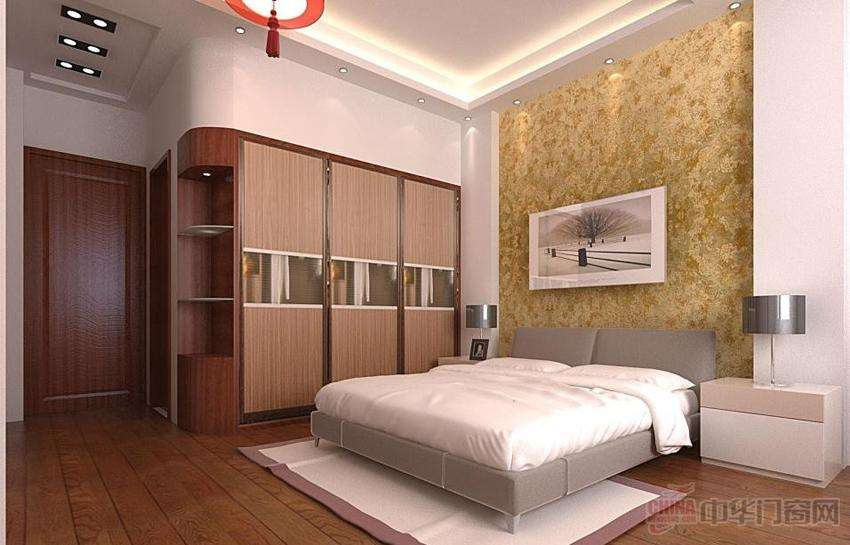床: (319, 354, 697, 512)
灯: (738, 296, 809, 385), (226, 2, 319, 59), (461, 305, 498, 361), (62, 3, 118, 34), (56, 33, 109, 59), (51, 56, 104, 82), (597, 57, 617, 70), (332, 64, 348, 76), (411, 95, 427, 107), (725, 4, 742, 15), (461, 111, 475, 124), (514, 99, 523, 110)
